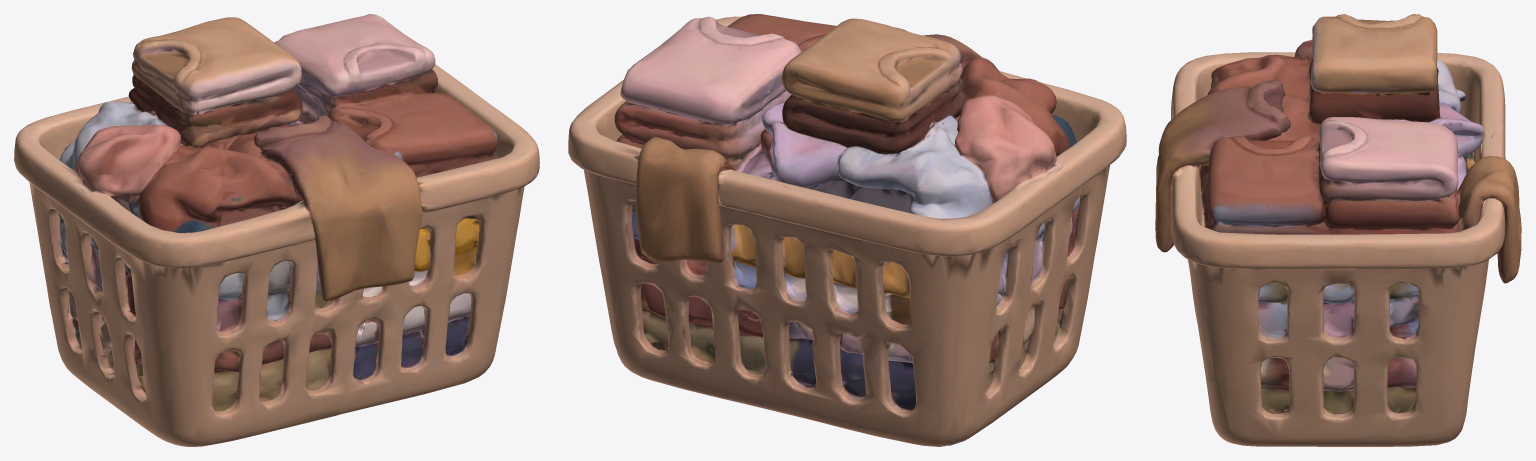
File: laundry.glb
3 views of the same model, side by side, from view 1: azimuth 30°, elevation 25°; view 2: azimuth 150°, elevation 25°; view 3: azimuth 270°, elevation 25° (orthographic). The views are drawn at different scales.
Size of the model in its own units: 1.9 by 1.45 by 1.51.
1 material, 1 textured.
